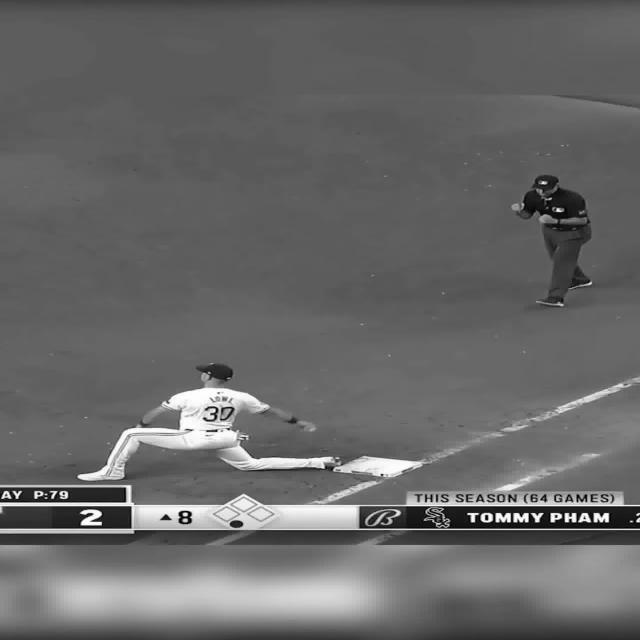base: (338, 455, 434, 477)
shoe: (76, 470, 125, 481), (320, 456, 342, 468), (535, 298, 564, 307), (567, 280, 592, 289)
